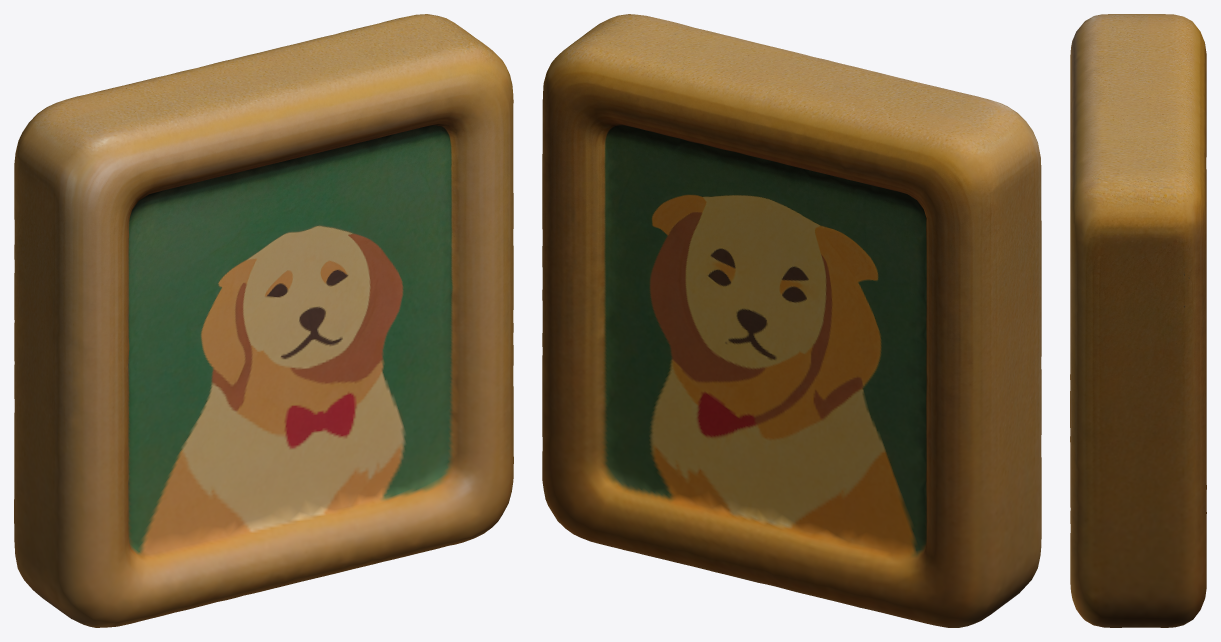
File: P_DecorFrame_h50.fbx
The picture shows the model from 3 angles, left to right: view 1: azimuth 30°, elevation 25°; view 2: azimuth 150°, elevation 25°; view 3: azimuth 270°, elevation 25°; orthographic projection. The views are drawn at different scales.
Visible parts, largest first — view 1: texture_mapping; view 2: texture_mapping; view 3: texture_mapping.
Part boxes in pixels (<box>): texture_mapping: <box>14,14,513,627</box>; texture_mapping: <box>542,14,1041,627</box>; texture_mapping: <box>1070,14,1206,627</box>.
Size of the model in its own units: 0.9584 by 0.2768 by 1.
Materials: 1 (1 with a texture image).
